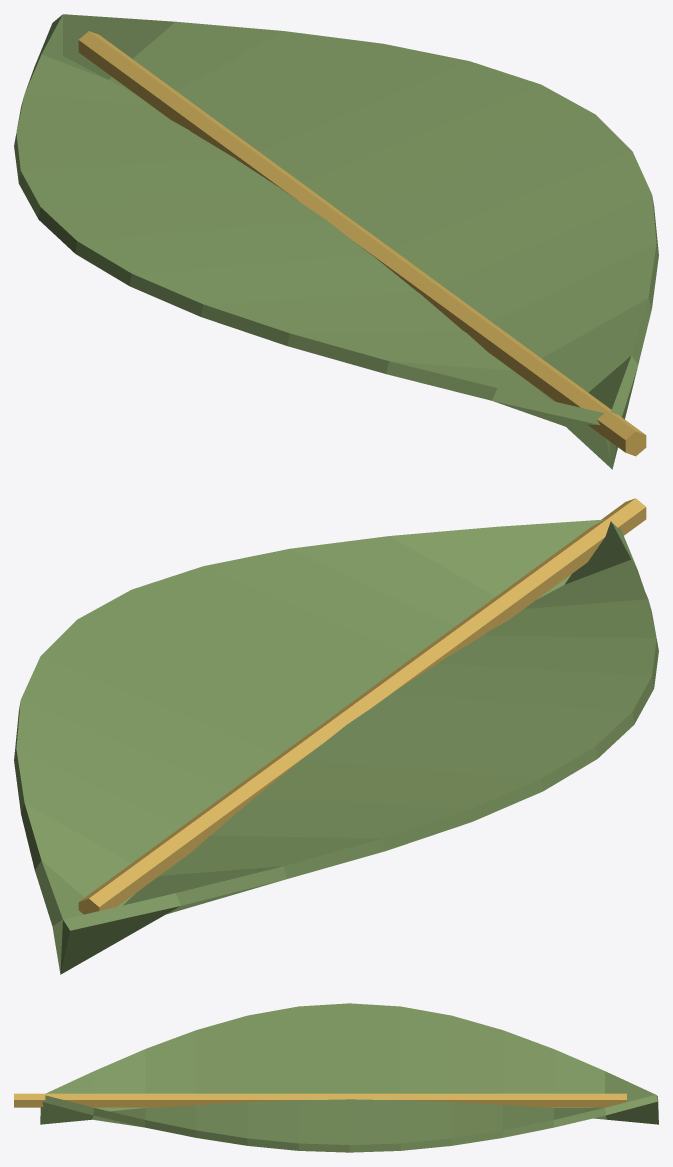
Rendered from floating-leaf.glb.
3 views of the same model, one above another, from view 1: azimuth 30°, elevation 25°; view 2: azimuth 150°, elevation 25°; view 3: azimuth 270°, elevation 25° (orthographic). The views are drawn at different scales.
Parts seen in each view (by area): view 1: floating-leaf-runtime; view 2: floating-leaf-runtime; view 3: floating-leaf-runtime.
Part boxes in pixels (left/top/right/bottom): floating-leaf-runtime: left=14, top=14, right=658, bottom=469; floating-leaf-runtime: left=14, top=498, right=658, bottom=974; floating-leaf-runtime: left=14, top=1003, right=658, bottom=1152.
Size of the model in its own units: 0.5237 by 0.0862 by 0.9994.
